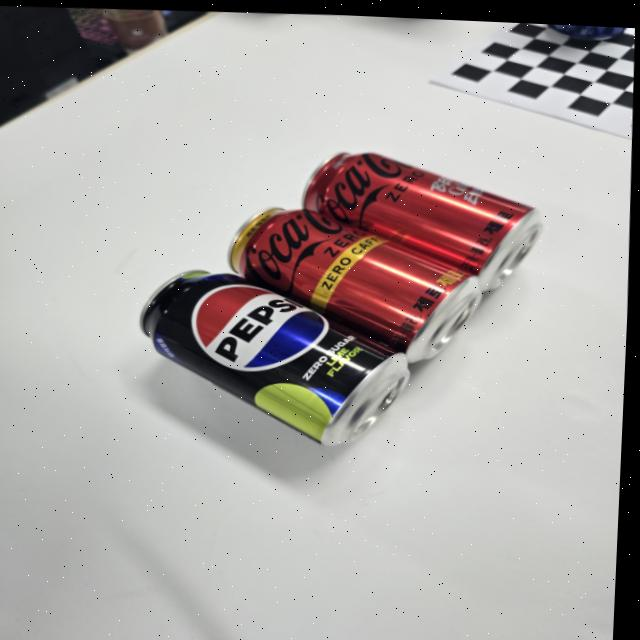can_coke_zero: (223, 204, 486, 364), (300, 148, 544, 289)
can_pepsi_zero: (135, 268, 414, 444)
